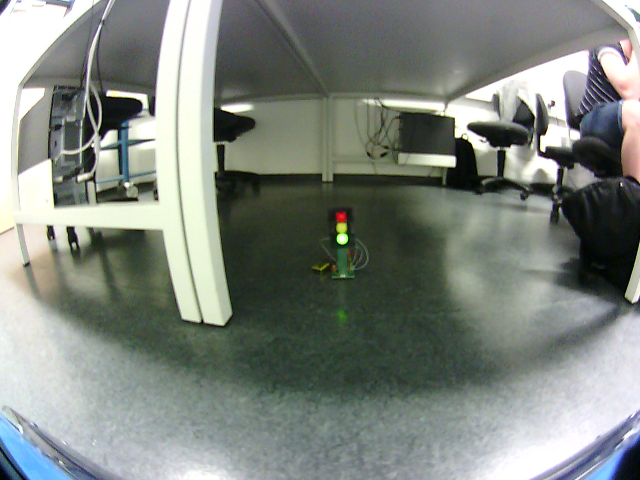green trafficlight: (334, 207, 349, 244)
